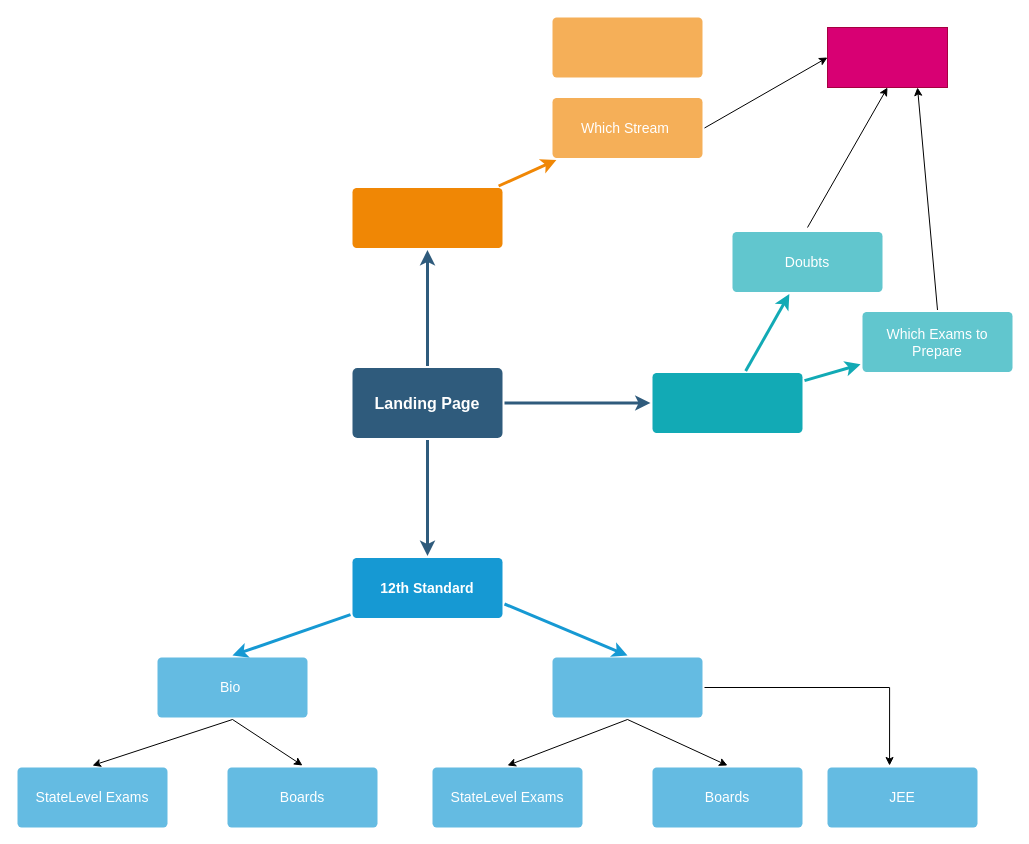
Some shapes in this 1029 by 844 pixel diagram are drawn without their labels. The centre of each missing label's shape, as x and y in pixels:
10 Th Standard: pixel 427 218
Math: pixel 627 687
Parents: pixel 727 402
Quiz: pixel 627 47
YT Videos: pixel 887 57
